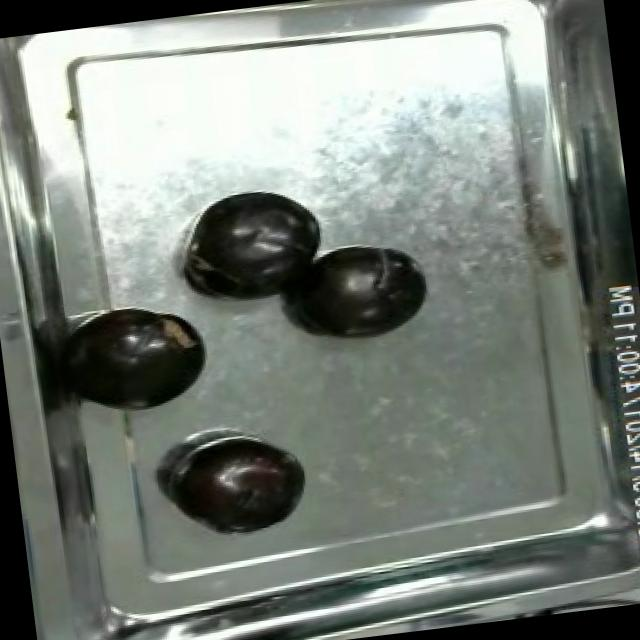Fruit: (64, 294, 218, 420), (183, 181, 334, 307), (168, 428, 318, 544), (286, 237, 436, 351)
